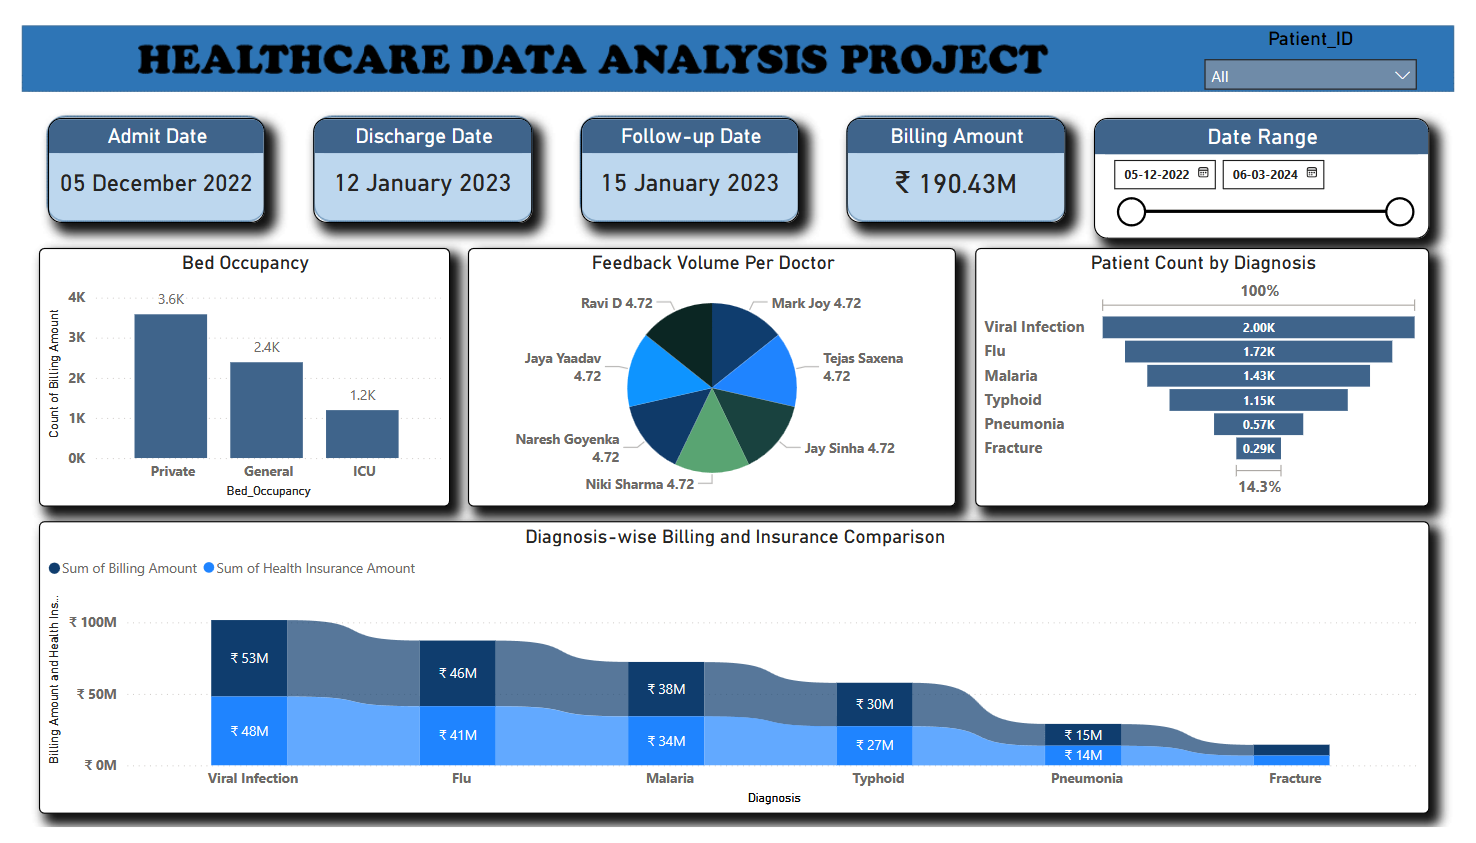

Layout of this report page (visuals, bound fields, positions):
{"tool":"powerbi","page":{"name":"Page 1","canvas":[1280,720],"ordinal":0},"visuals":[{"type":"card","title":"Admit Date","fields":{"Values":["Min(Sheet1.Admit_Date)"]},"box":[29.4,92,191.4,93.3],"z":0},{"type":"slicer","title":"Patient_ID","fields":{"Values":["Sheet1.Patient_ID"]},"box":[1042.9,11,208.6,65.9],"z":1000},{"type":"card","title":"Discharge Date","fields":{"Values":["Min(Sheet1.Discharge_Date)"]},"box":[263.8,92,193.9,93.3],"z":2000},{"type":"card","title":"Follow-up Date","fields":{"Values":["Min(Sheet1.Followup Date)"]},"box":[500.6,92,193.9,93.3],"z":3000},{"type":"card","title":"Billing Amount","fields":{"Values":["Sum(Sheet1.Billing Amount)"]},"box":[736.2,92,193.9,93.3],"z":4000},{"type":"slicer","title":"Date Range","fields":{"Values":["Sheet1.Admit_Date"]},"box":[954.6,92,296.9,106.7],"z":5000},{"type":"columnChart","title":"Bed Occupancy","fields":{"Category":["Sheet1.Bed_Occupancy"],"Y":["CountNonNull(Sheet1.Billing Amount)"]},"box":[20.9,207.4,364.4,228.2],"z":6000},{"type":"pieChart","title":"Feedback Volume Per Doctor","fields":{"Category":["Sheet1.Doctor"],"Y":["Avg(Sheet1.Feedback)"]},"box":[401.2,207.4,431.9,228.2],"z":7000},{"type":"funnel","title":"Patient Count by Diagnosis","fields":{"Category":["Sheet1.Diagnosis"],"Y":["CountNonNull(Sheet1.Patient_ID)"]},"box":[850.3,207.4,401.2,228.2],"z":8000},{"type":"ribbonChart","title":"Diagnosis-wise Billing and Insurance Comparison","fields":{"Y":["Sum(Sheet1.Billing Amount)","Sum(Sheet1.Health Insurance Amount)"],"Category":["Sheet1.Diagnosis"]},"box":[20.9,449.1,1230.7,258.9],"z":9000}]}

Visuals, with their boxes in screenshot pixels (x1, y1, x2, y2), scaled from the page's 1280x720 canvas onto the 1476x843 screenshot:
"Admit Date" card: x1=34, y1=108, x2=255, y2=217
"Patient_ID" slicer: x1=1203, y1=13, x2=1443, y2=90
"Discharge Date" card: x1=304, y1=108, x2=528, y2=217
"Follow-up Date" card: x1=577, y1=108, x2=801, y2=217
"Billing Amount" card: x1=849, y1=108, x2=1073, y2=217
"Date Range" slicer: x1=1101, y1=108, x2=1443, y2=233
"Bed Occupancy" columnChart: x1=24, y1=243, x2=444, y2=510
"Feedback Volume Per Doctor" pieChart: x1=463, y1=243, x2=961, y2=510
"Patient Count by Diagnosis" funnel: x1=981, y1=243, x2=1443, y2=510
"Diagnosis-wise Billing and Insurance Comparison" ribbonChart: x1=24, y1=526, x2=1443, y2=829
